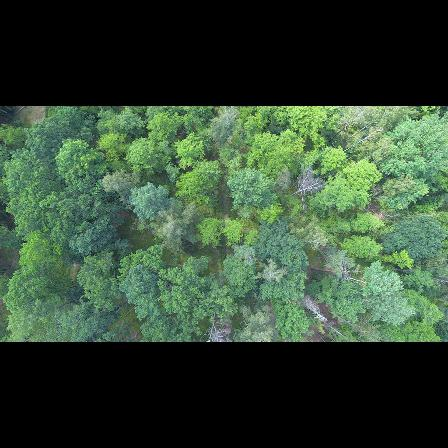Dead: (282, 172, 328, 207), (197, 307, 234, 343), (293, 296, 329, 326), (330, 259, 369, 283)
